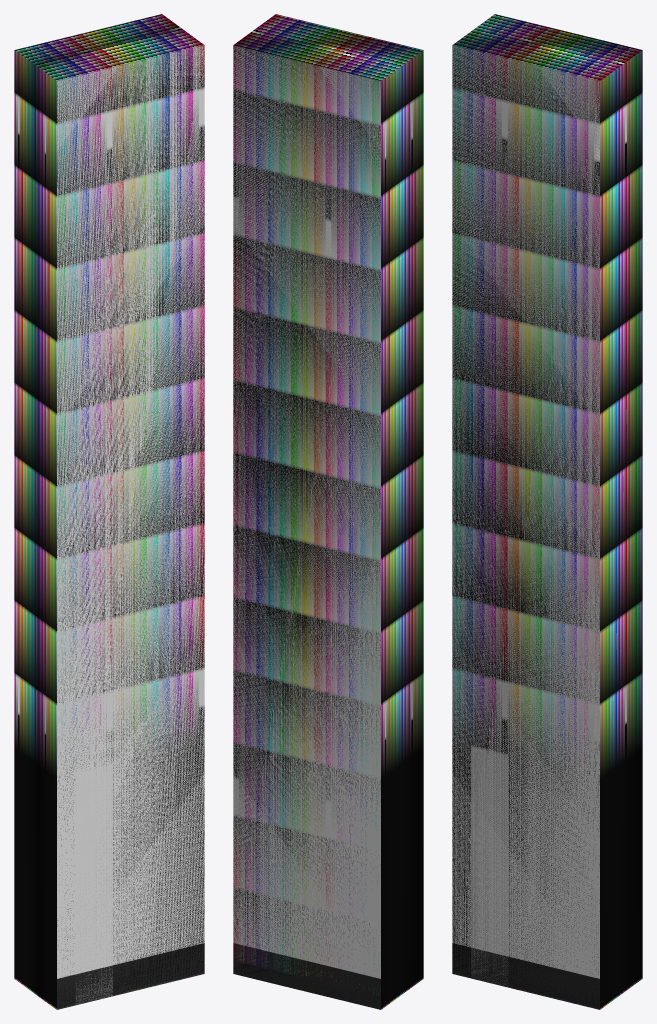
The model's file is interiorWall_line_half_white.fbx.
3 renders of one model, left to right at view 1: azimuth 30°, elevation 25°; view 2: azimuth 150°, elevation 25°; view 3: azimuth 330°, elevation 25°, orthographic.
Visible parts, largest first — view 1: interiorWall_line_half_trigger_white, interiorWall_line_half_white; view 2: interiorWall_line_half_trigger_white, interiorWall_line_half_white; view 3: interiorWall_line_half_trigger_white, interiorWall_line_half_white.
Part boxes in pixels (x1,y1,x2,y2): interiorWall_line_half_trigger_white: [14, 14, 204, 1009]; interiorWall_line_half_white: [57, 45, 204, 1009]; interiorWall_line_half_trigger_white: [233, 14, 423, 1009]; interiorWall_line_half_white: [233, 45, 380, 1009]; interiorWall_line_half_trigger_white: [452, 14, 642, 1009]; interiorWall_line_half_white: [452, 45, 599, 1009].
Size of what is drawn, in the model's own units: 50 by 300 by 25.
